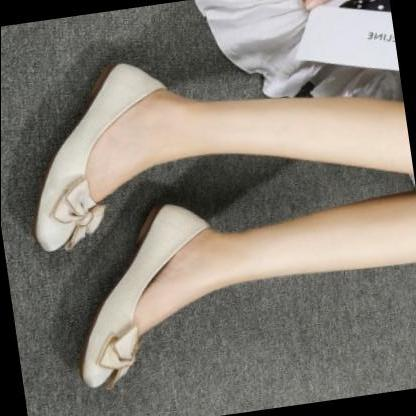no_safety-shoe: (1, 31, 224, 255), (61, 192, 252, 404)
